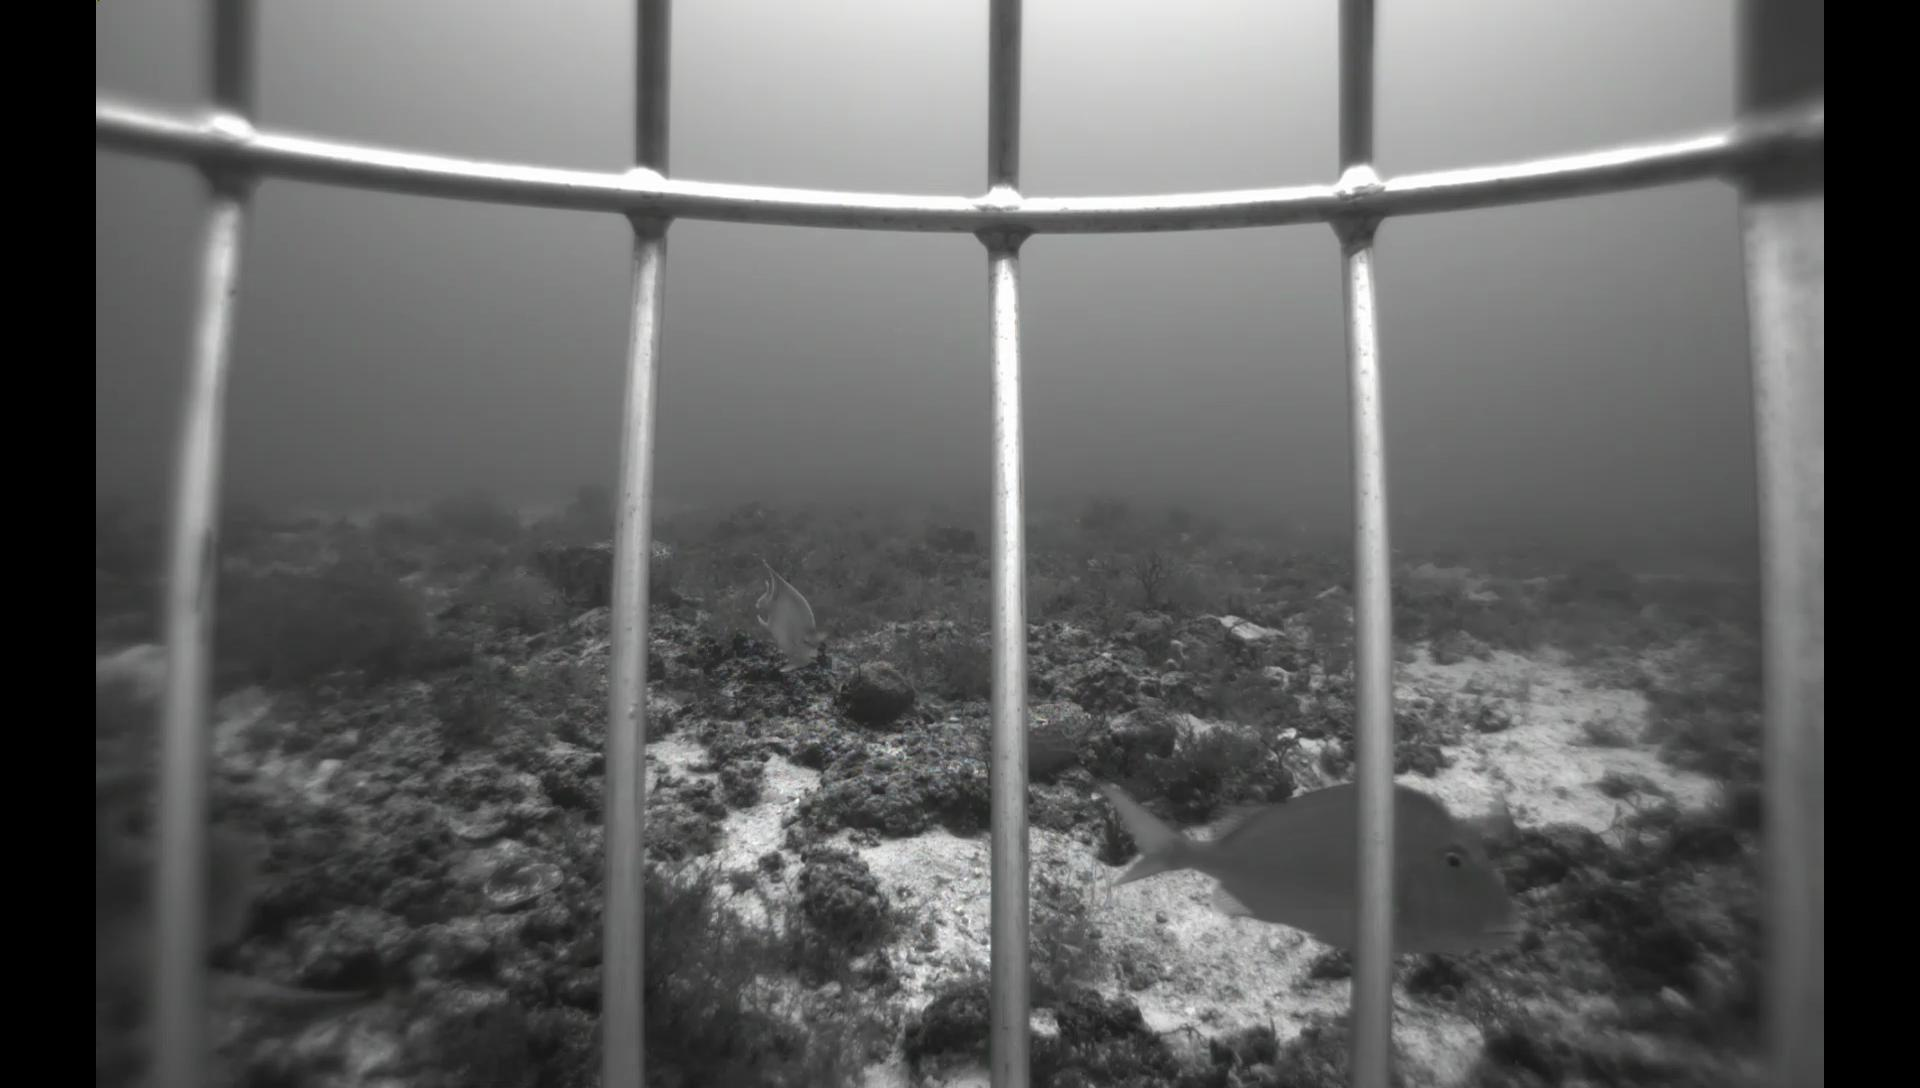CALAMUSNODOSUS-170210608: (1092, 766, 1538, 973)
HOLACANTHUSBERMUDENSIS-170290102: (96, 746, 396, 1029), (741, 549, 837, 684)
MYCTEROPERCAPHENAX-170022105: (844, 510, 887, 555)
